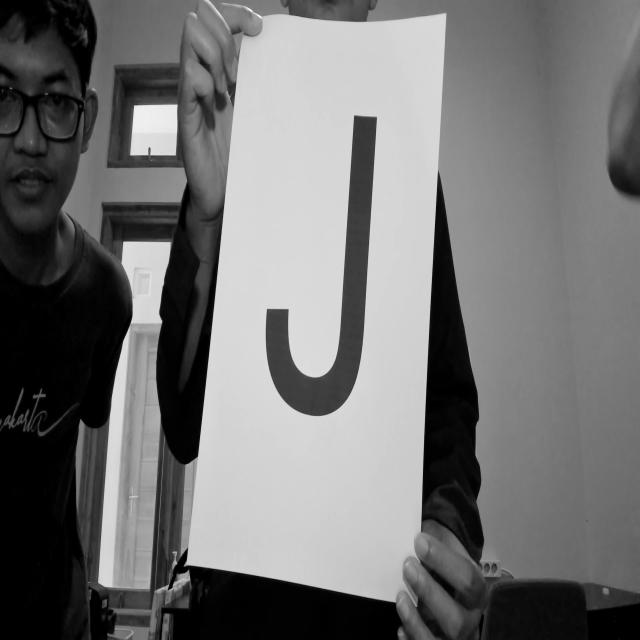j: (244, 88, 384, 470)
